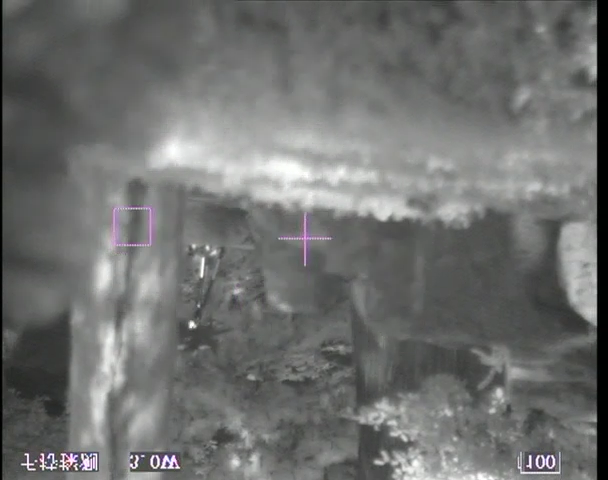my: (188, 320, 196, 329)
